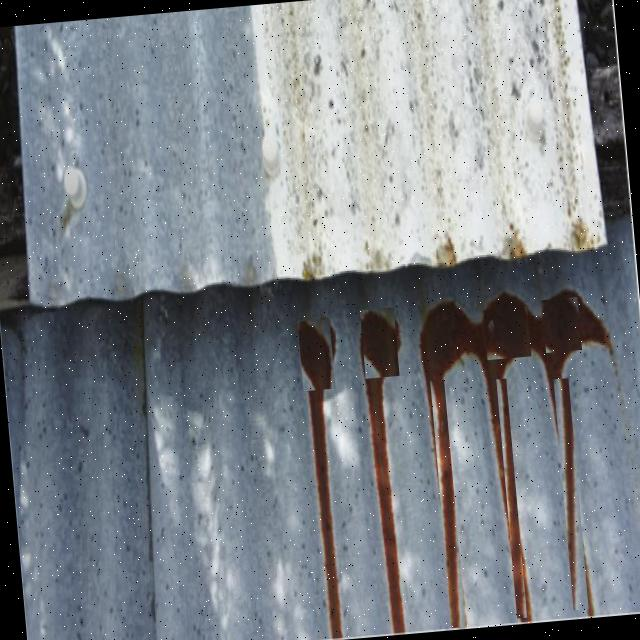Corrosion: (292, 280, 636, 638), (526, 283, 634, 617), (414, 296, 501, 628), (472, 288, 557, 622), (354, 306, 426, 633), (294, 315, 361, 638)
